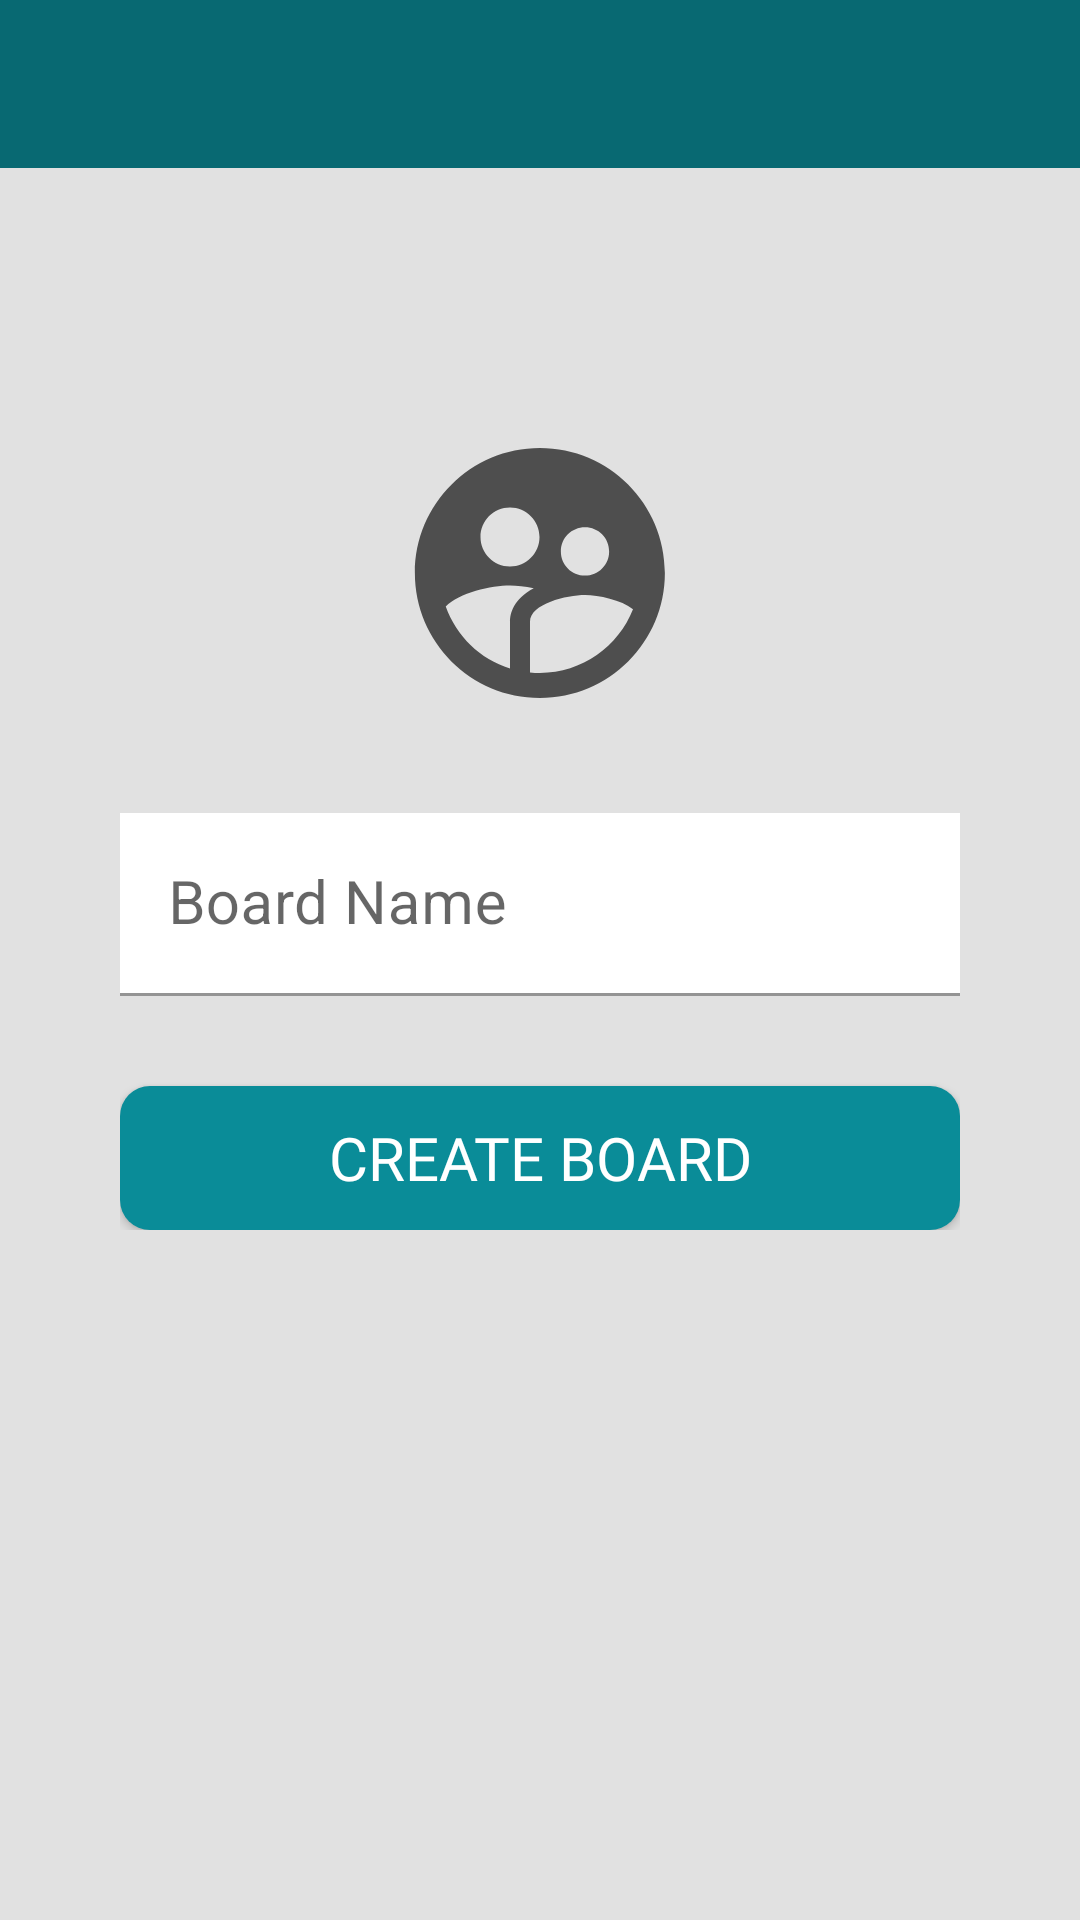

Where to tap for icons on this 1080px x 1920px app screen, as point (x, y):
supervised user circle: point (539, 573)
